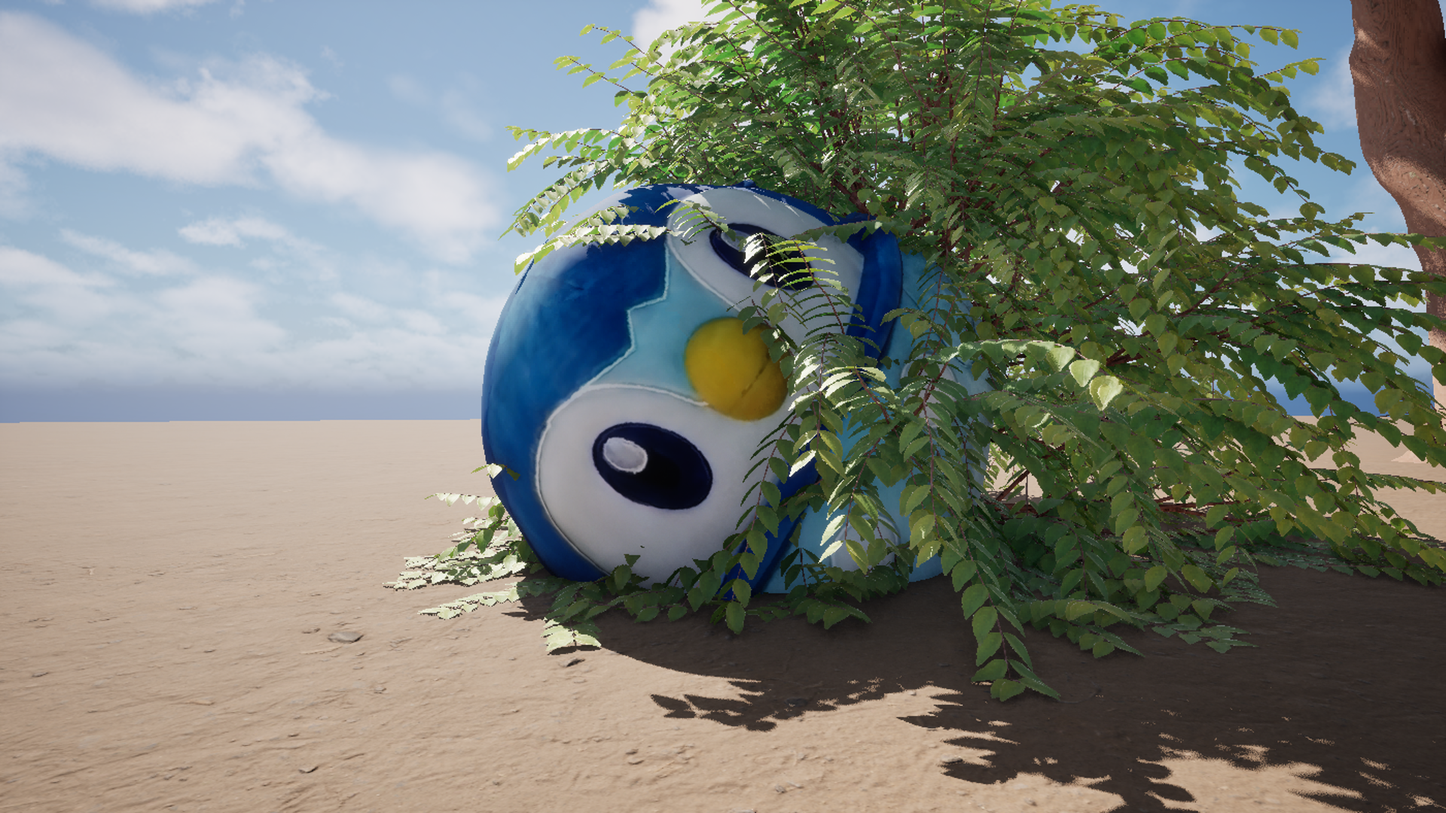Piplup: (350, 0, 1139, 813)
